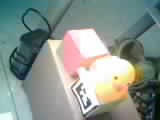duck: (74, 43, 134, 98)
